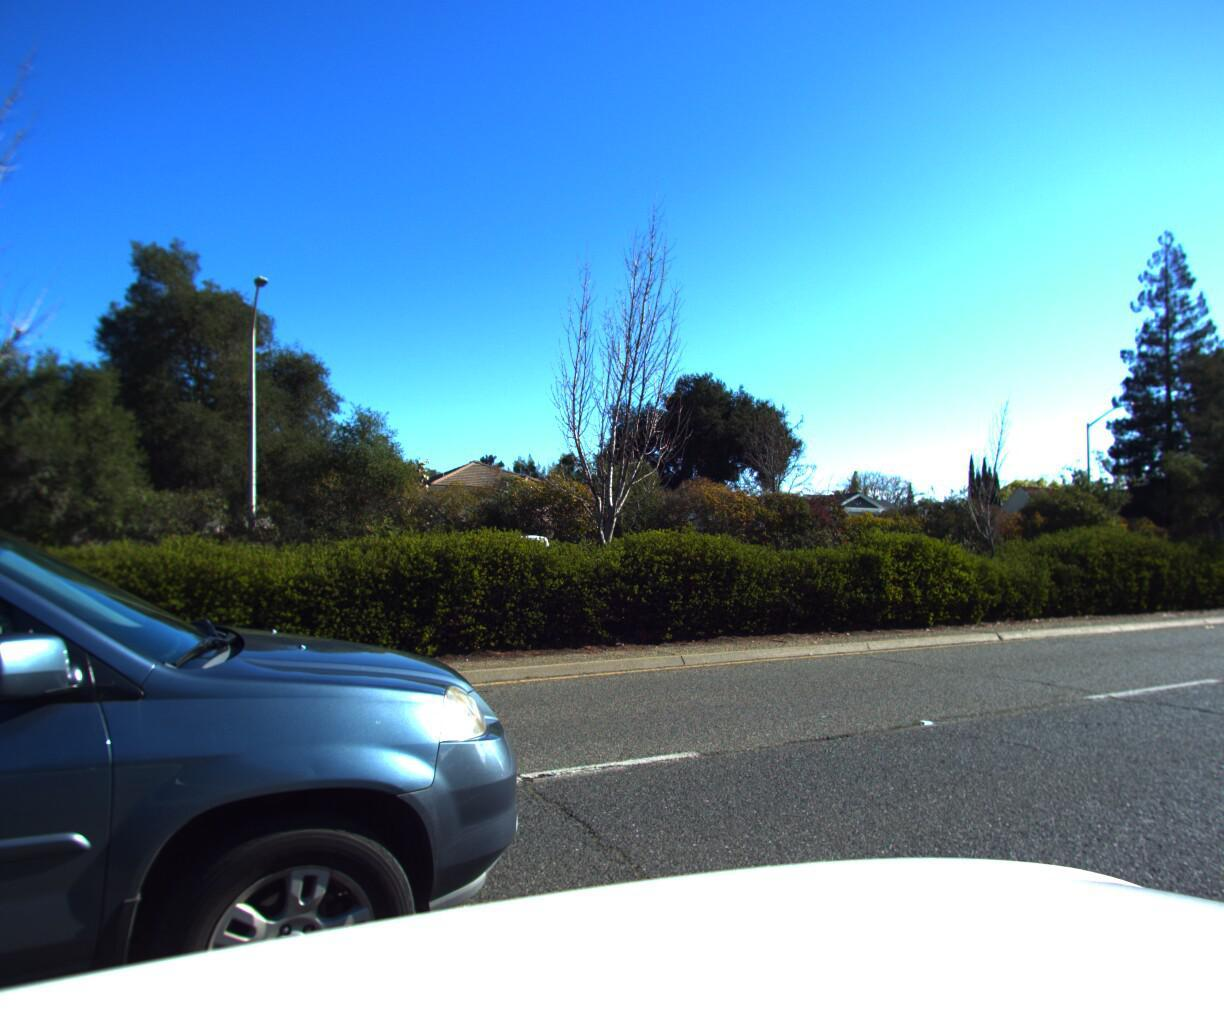car: (0, 174, 637, 1024), (397, 533, 621, 613)
